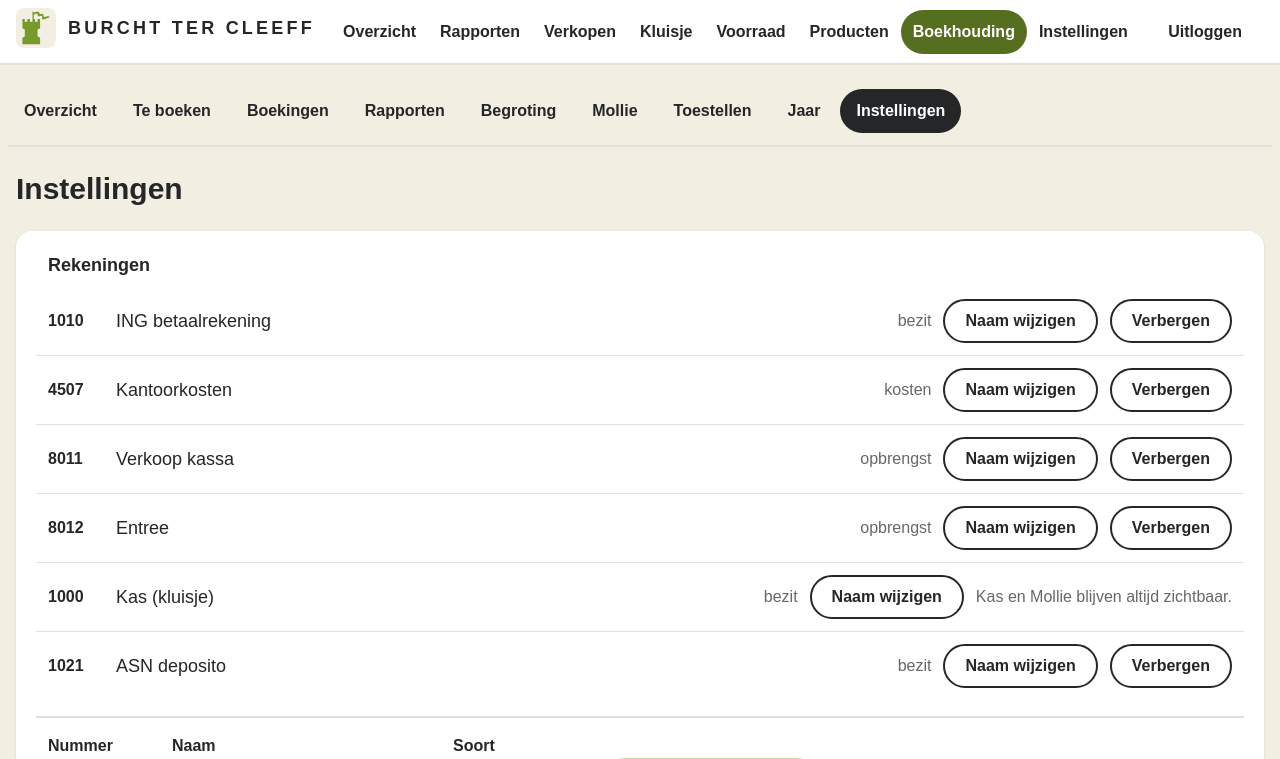
it: says why a bank account in use stays visible
Expected: the heading "Rekeningen" is shown, [48, 255, 150, 275]
Expected: the text "Kantoorkosten" is shown, [116, 380, 232, 400]
Click the 1st button "Verbergen".
click(1171, 321)  # box [1110, 299, 1232, 343]
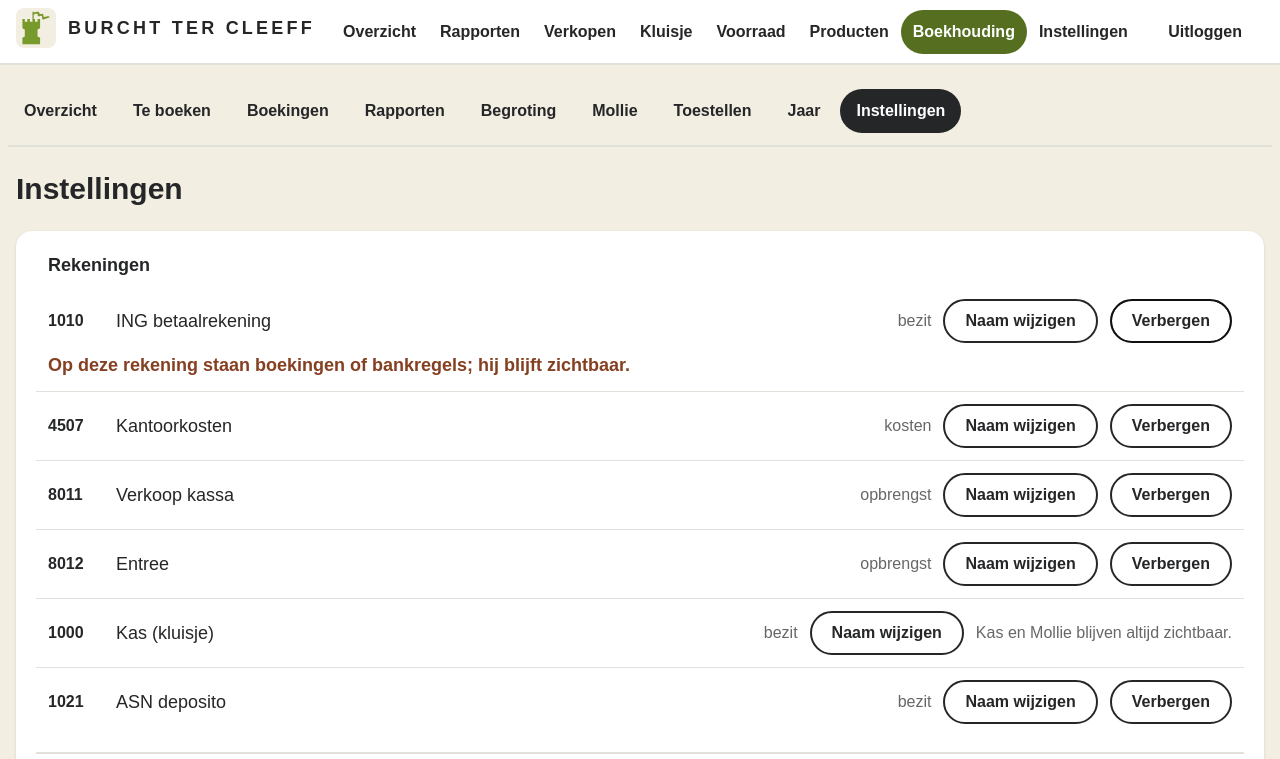
Expected: the text "Op deze rekening staan boekingen of bankregels; hij blijft zichtbaar." is shown, [48, 355, 630, 375]
